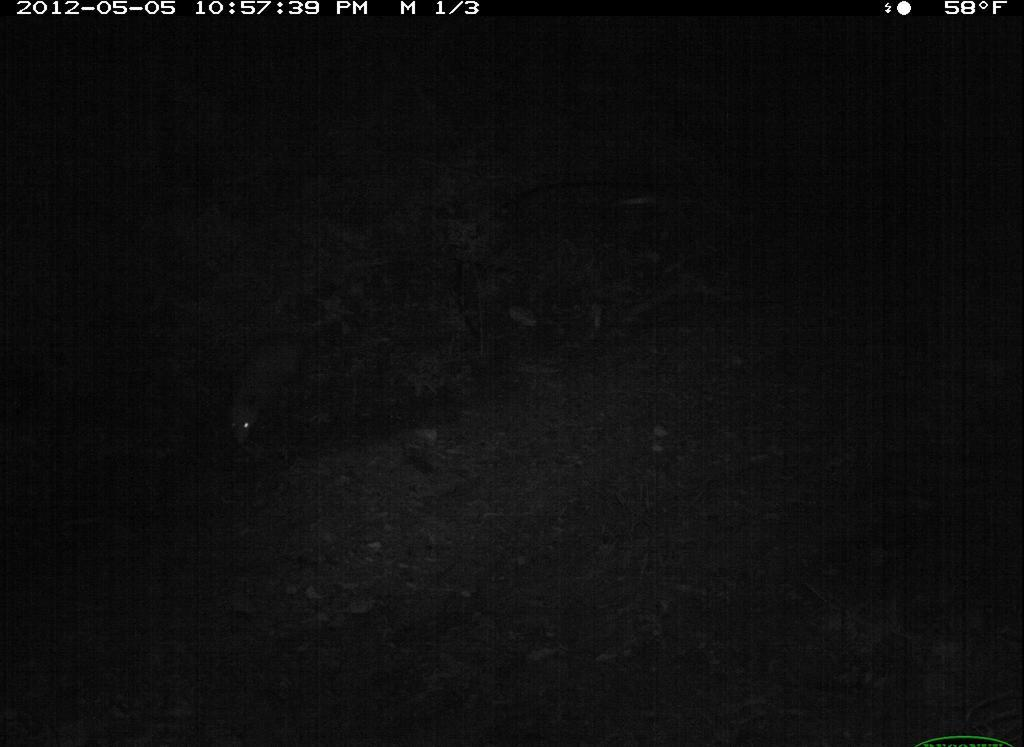opossum: (196, 310, 333, 463)
